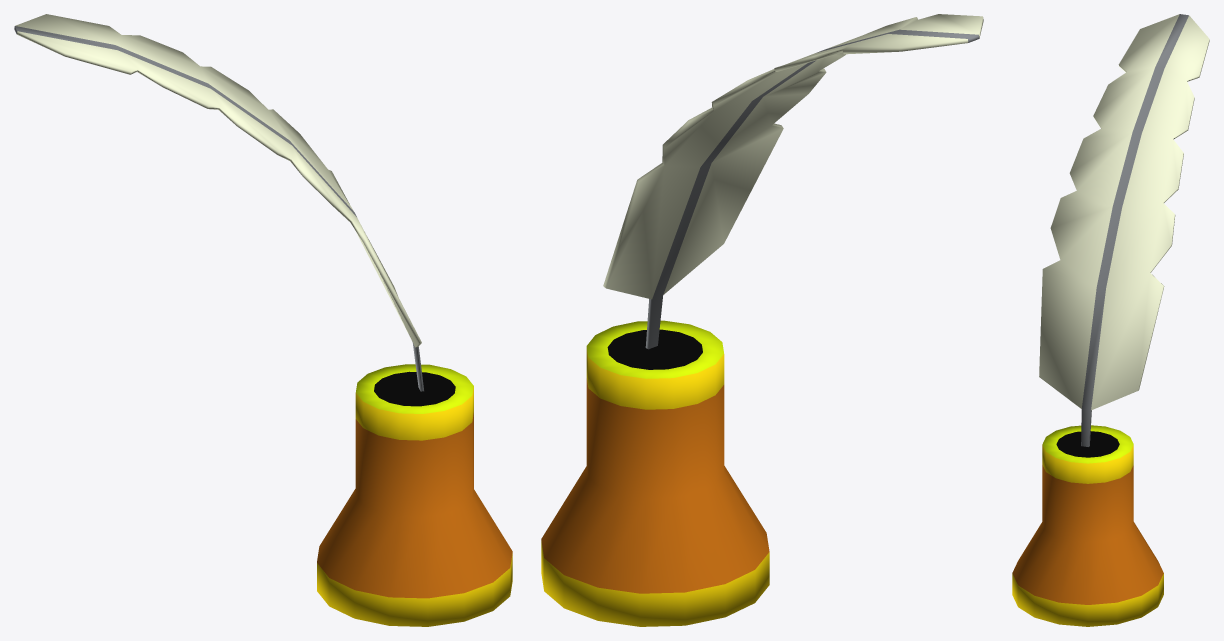
File: Quill.fbx
3 views of the same model, side by side, from view 1: azimuth 30°, elevation 25°; view 2: azimuth 150°, elevation 25°; view 3: azimuth 270°, elevation 25° (orthographic). The views are drawn at different scales.
Visible parts, largest first — view 1: Quill; view 2: Quill; view 3: Quill.
Boxes of the visible parts, x1,y1,x2,y2 form: Quill: [14, 14, 512, 626]; Quill: [541, 14, 983, 626]; Quill: [1012, 14, 1209, 626].
Bounding box in the file's own units: 0.3535 × 0.4727 × 0.186.
